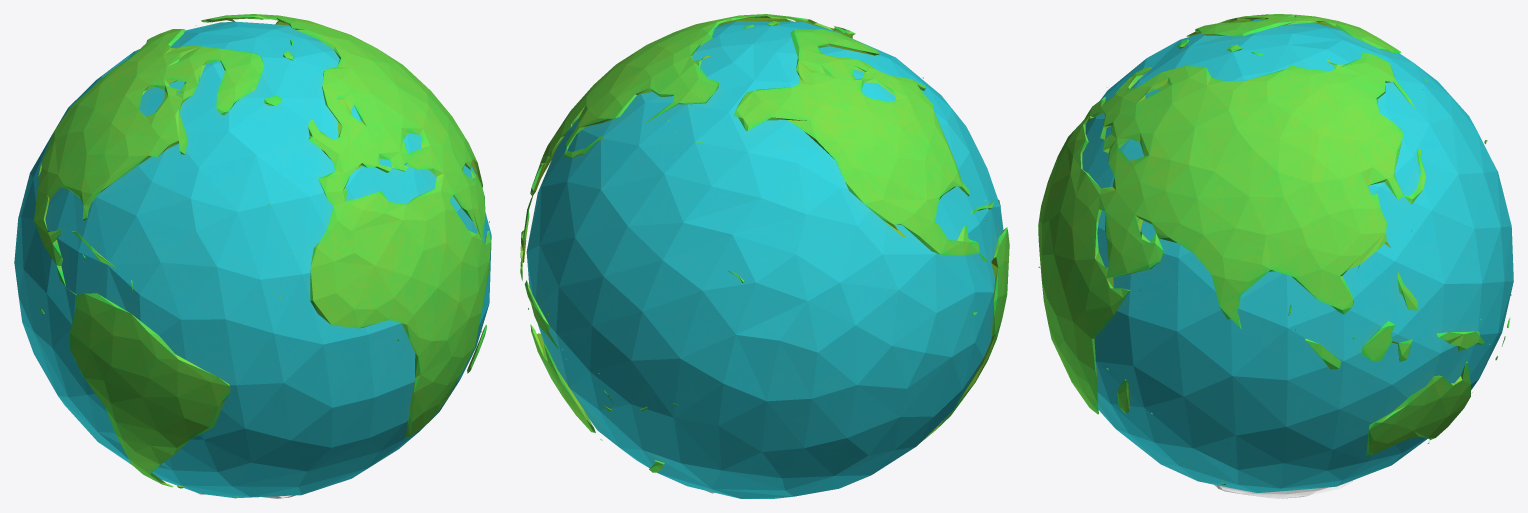
The model's file is earth.glb.
The picture shows the model from 3 angles, left to right: view 1: azimuth 30°, elevation 25°; view 2: azimuth 150°, elevation 25°; view 3: azimuth 270°, elevation 25°; orthographic projection.
Parts seen in each view (by area): view 1: Cartoon_earth_world_map; view 2: Cartoon_earth_world_map; view 3: Cartoon_earth_world_map.
Part boxes in pixels (x1,y1,x2,y2): Cartoon_earth_world_map: [14, 14, 491, 498]; Cartoon_earth_world_map: [520, 14, 1009, 498]; Cartoon_earth_world_map: [1038, 14, 1513, 498].
Bounding box in the file's own units: 12.74 × 12.78 × 12.58.
1 material, 1 textured.
